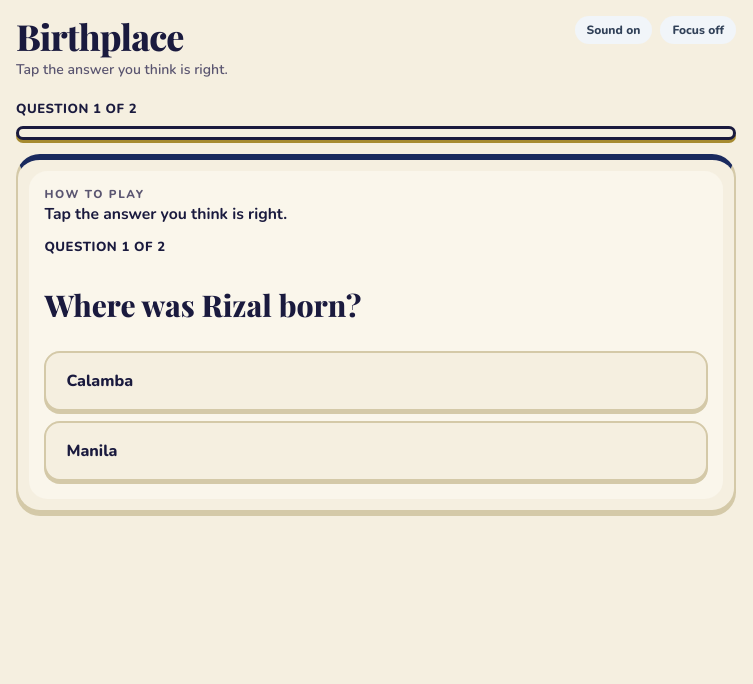
it: QuizGame › moves the header bar to the next question only after a correct grade
Expected: the progress indicator named "Question 1 of 2" is shown, [16, 126, 736, 140]
Click the button "Manila": (92, 451) [44, 421, 708, 481]
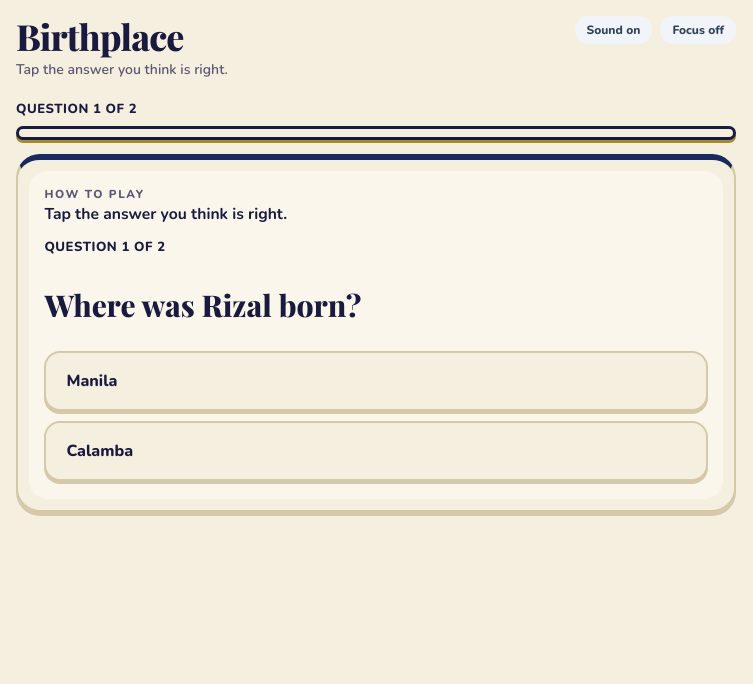
Expected: the button "Manila" is enabled, [44, 351, 708, 411]
Click the button "Calamba": (100, 451) [44, 421, 708, 481]
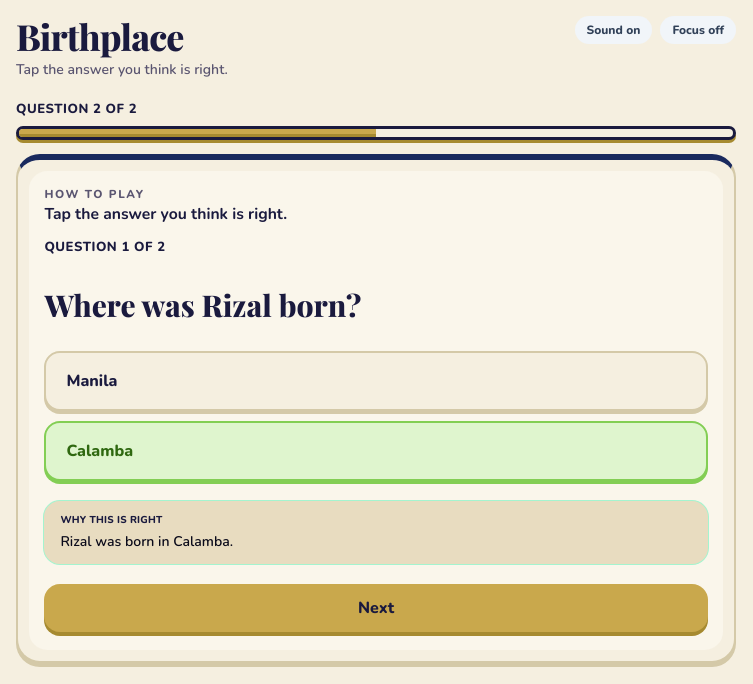
Expected: the text "Where was Rizal born?" is shown, [44, 285, 362, 325]
Result: the button "Next" is shown at [44, 584, 708, 632]
